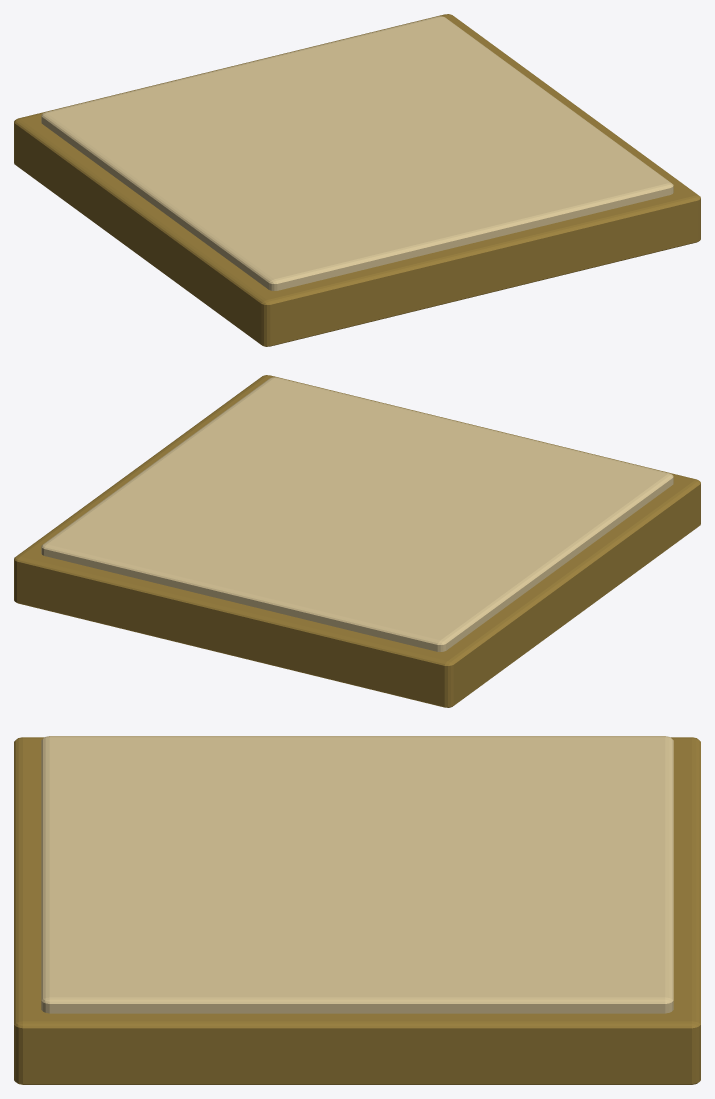
The model's file is Zemin.fbx.
3 renders of one model, top to bottom at view 1: azimuth 30°, elevation 25°; view 2: azimuth 150°, elevation 25°; view 3: azimuth 270°, elevation 25°, orthographic. The views are drawn at different scales.
Parts seen in each view (by area): view 1: Cube.002; view 2: Cube.002; view 3: Cube.002.
Boxes of the visible parts, <box> form: Cube.002: <box>14,14,700,346</box>; Cube.002: <box>14,375,700,707</box>; Cube.002: <box>14,736,700,1084</box>.
Bounding box in the file's own units: 100 × 12.03 × 100.
